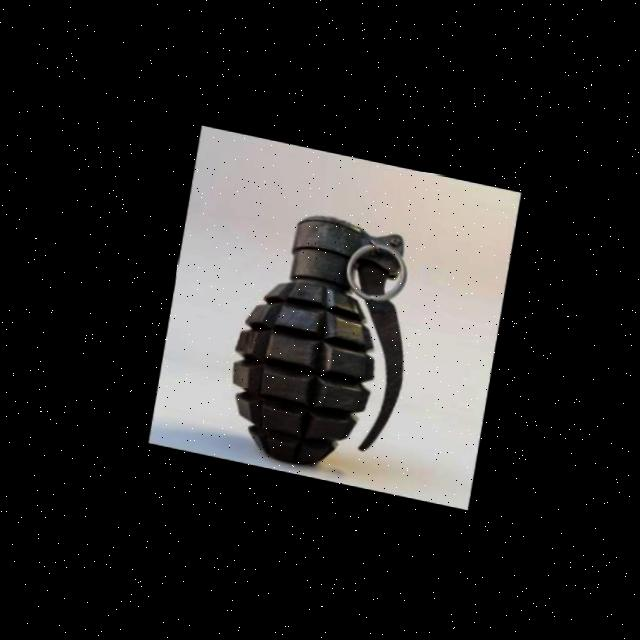grenade: (199, 190, 446, 490)
